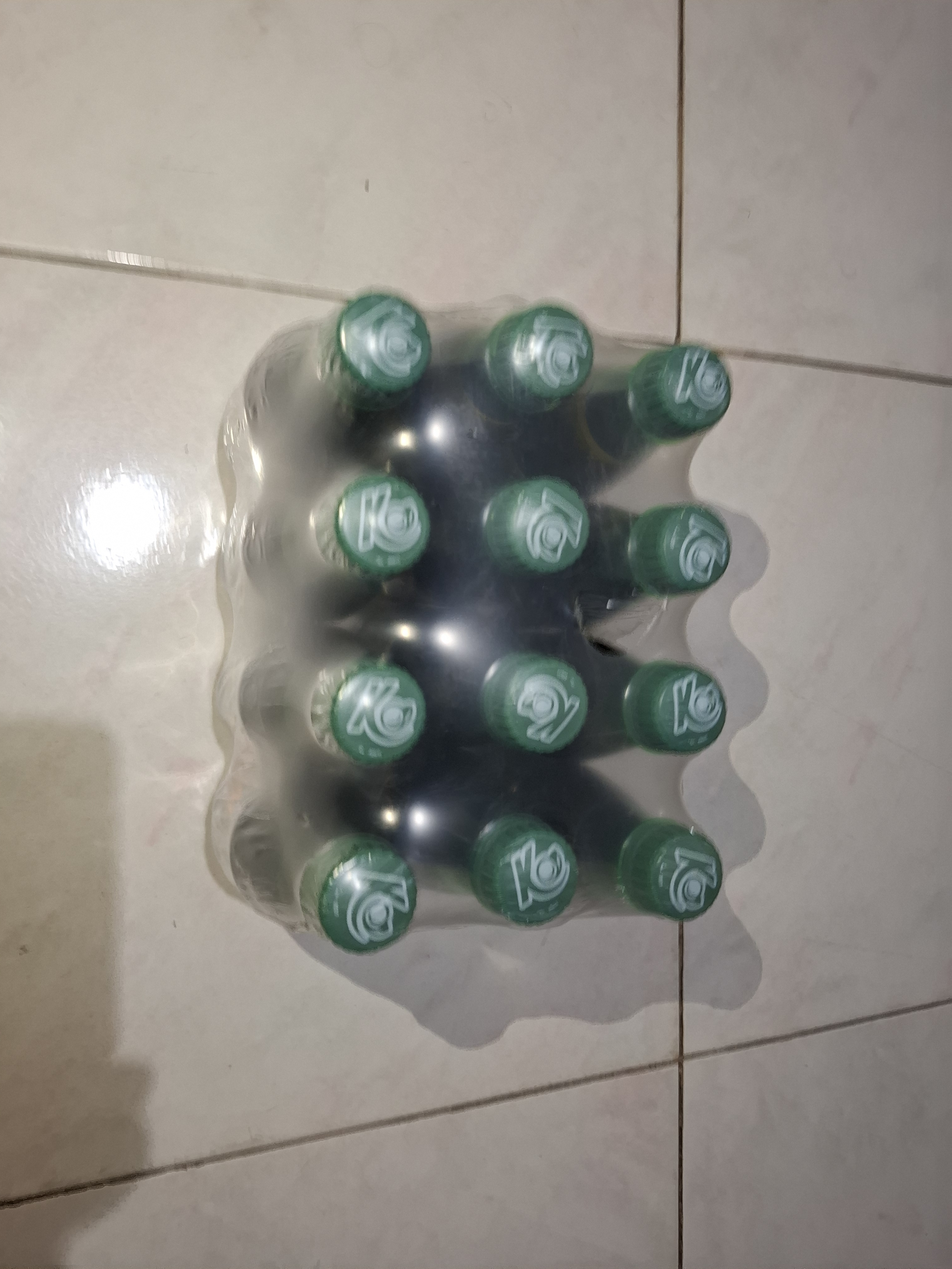Tampa Refrigerante Kuat: (325, 281, 436, 401), (470, 810, 577, 927), (319, 838, 420, 952), (484, 645, 588, 751), (507, 292, 608, 401), (319, 476, 423, 579), (320, 664, 423, 768), (484, 473, 586, 577), (630, 816, 731, 918), (642, 322, 736, 425), (632, 656, 728, 756), (641, 499, 736, 593)
